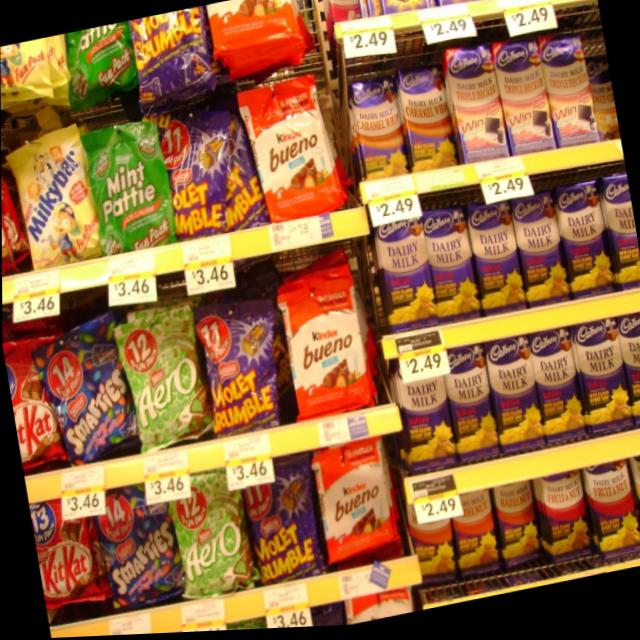q145: (550, 176, 618, 299), (370, 225, 439, 344), (480, 329, 545, 455), (526, 325, 588, 452), (442, 347, 503, 476), (419, 205, 479, 329), (573, 325, 635, 443), (508, 198, 568, 318), (464, 206, 527, 313), (394, 364, 452, 476), (617, 318, 640, 426)
q280: (29, 497, 113, 615)
